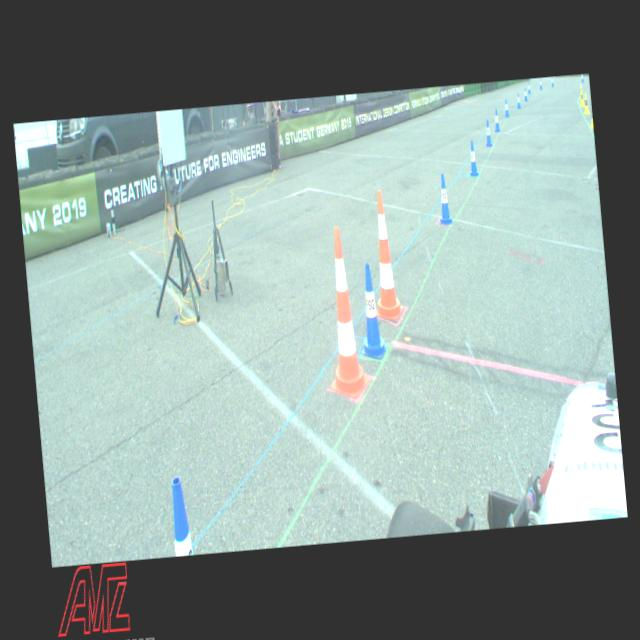blue_cone: (354, 262, 388, 360), (168, 475, 193, 556), (434, 172, 454, 225), (466, 140, 478, 177), (483, 118, 492, 146), (492, 108, 500, 132), (503, 98, 509, 118), (522, 86, 528, 100), (516, 92, 520, 109), (526, 82, 530, 94), (538, 78, 542, 90), (550, 76, 554, 87), (580, 74, 584, 82)
large_orange_cone: (317, 225, 370, 400), (366, 188, 404, 321)
yellow_cone: (582, 94, 589, 114), (579, 90, 584, 106), (589, 108, 593, 128), (578, 85, 584, 98)
